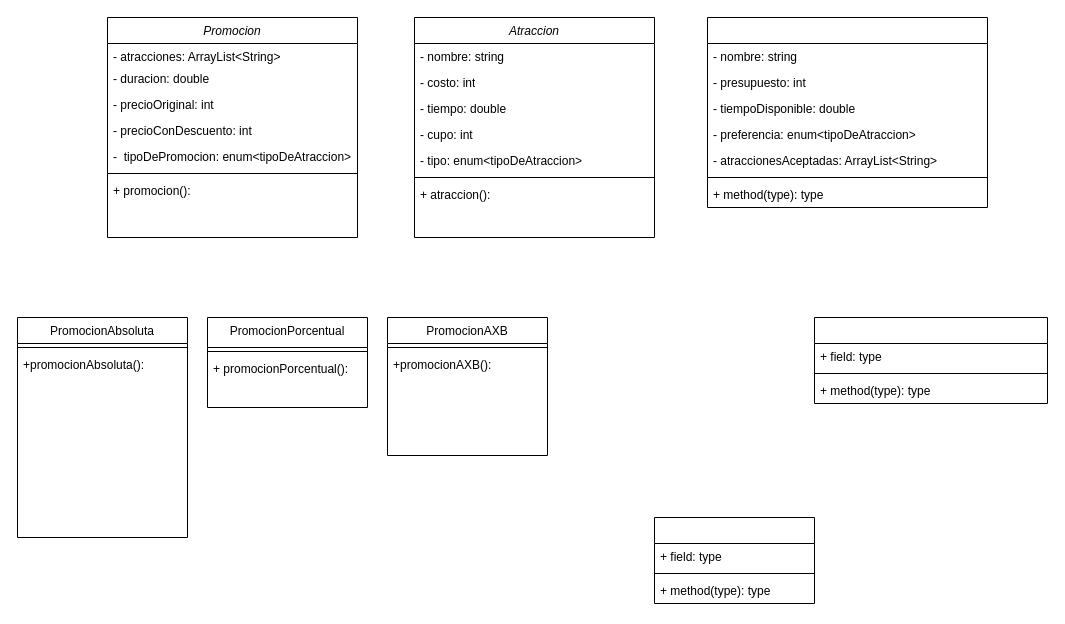
Some shapes in this 1065 by 624 pixel diagram are drawn without their labels. Here are the shapes that lost their labels. From the top down, the box of each, then its label:
(706, 16, 988, 208): Usuario
(814, 316, 1048, 404): OfertadorDePaquetesAtracciones
(654, 516, 814, 604): Main
